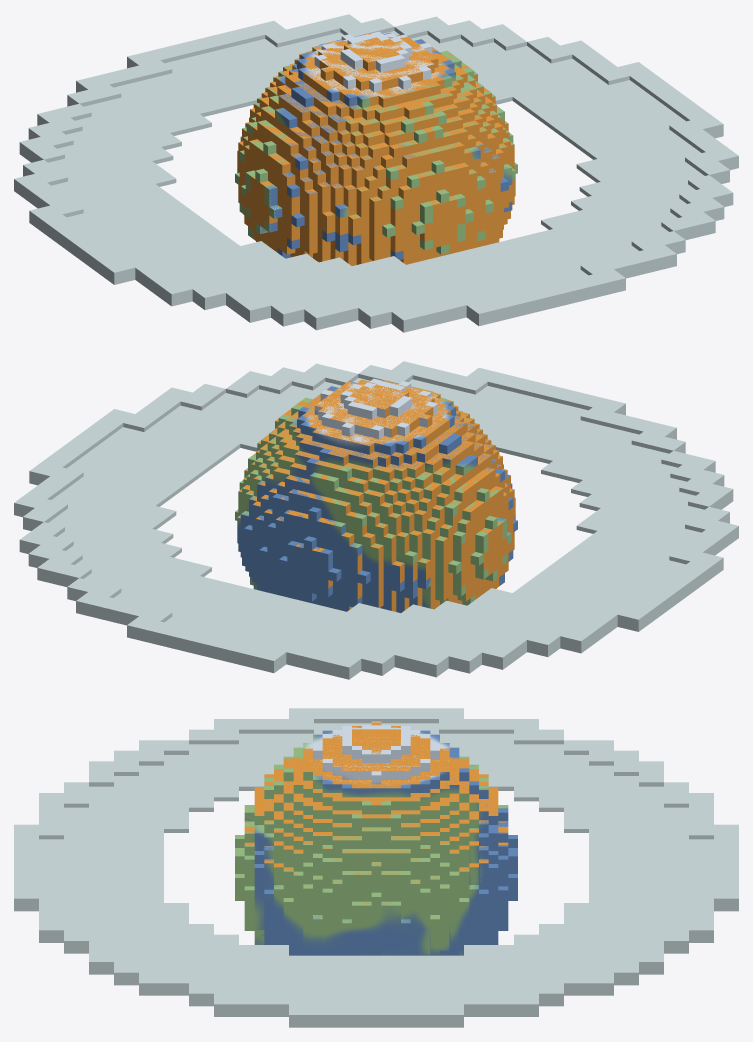
The model's file is planets.glb.
The picture shows the model from 3 angles, top to bottom: view 1: azimuth 30°, elevation 25°; view 2: azimuth 150°, elevation 25°; view 3: azimuth 270°, elevation 25°; orthographic projection. The views are drawn at different scales.
Parts seen in each view (by area): view 1: saturn, sun, earth; view 2: saturn, earth, sun; view 3: saturn, earth, sun.
Part boxes in pixels (bbox=[...]): saturn: bbox=[14, 14, 738, 332]; sun: bbox=[237, 33, 515, 265]; earth: bbox=[235, 31, 517, 259]; saturn: bbox=[14, 361, 738, 679]; earth: bbox=[235, 378, 517, 612]; sun: bbox=[239, 380, 515, 611]; saturn: bbox=[14, 708, 738, 1027]; earth: bbox=[235, 721, 517, 955]; sun: bbox=[244, 722, 508, 905].
Bounding box in the file's own units: 5.16 × 2.01 × 5.16.
10 materials, 4 textured.
